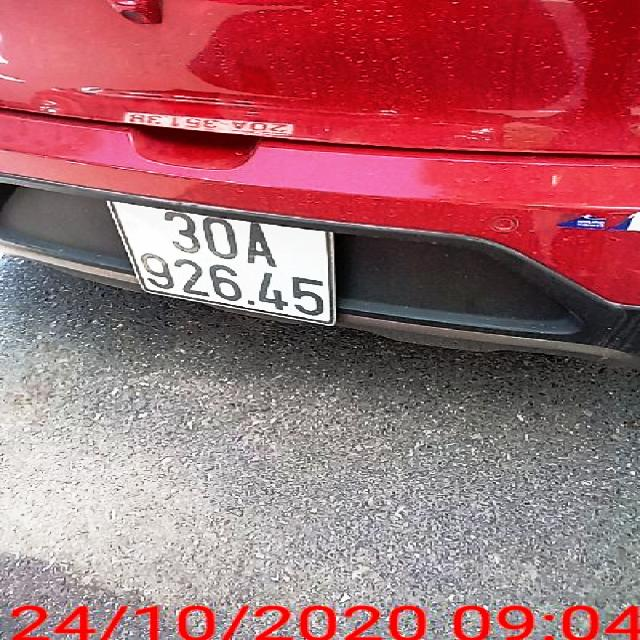license_plate: (111, 199, 334, 326)
